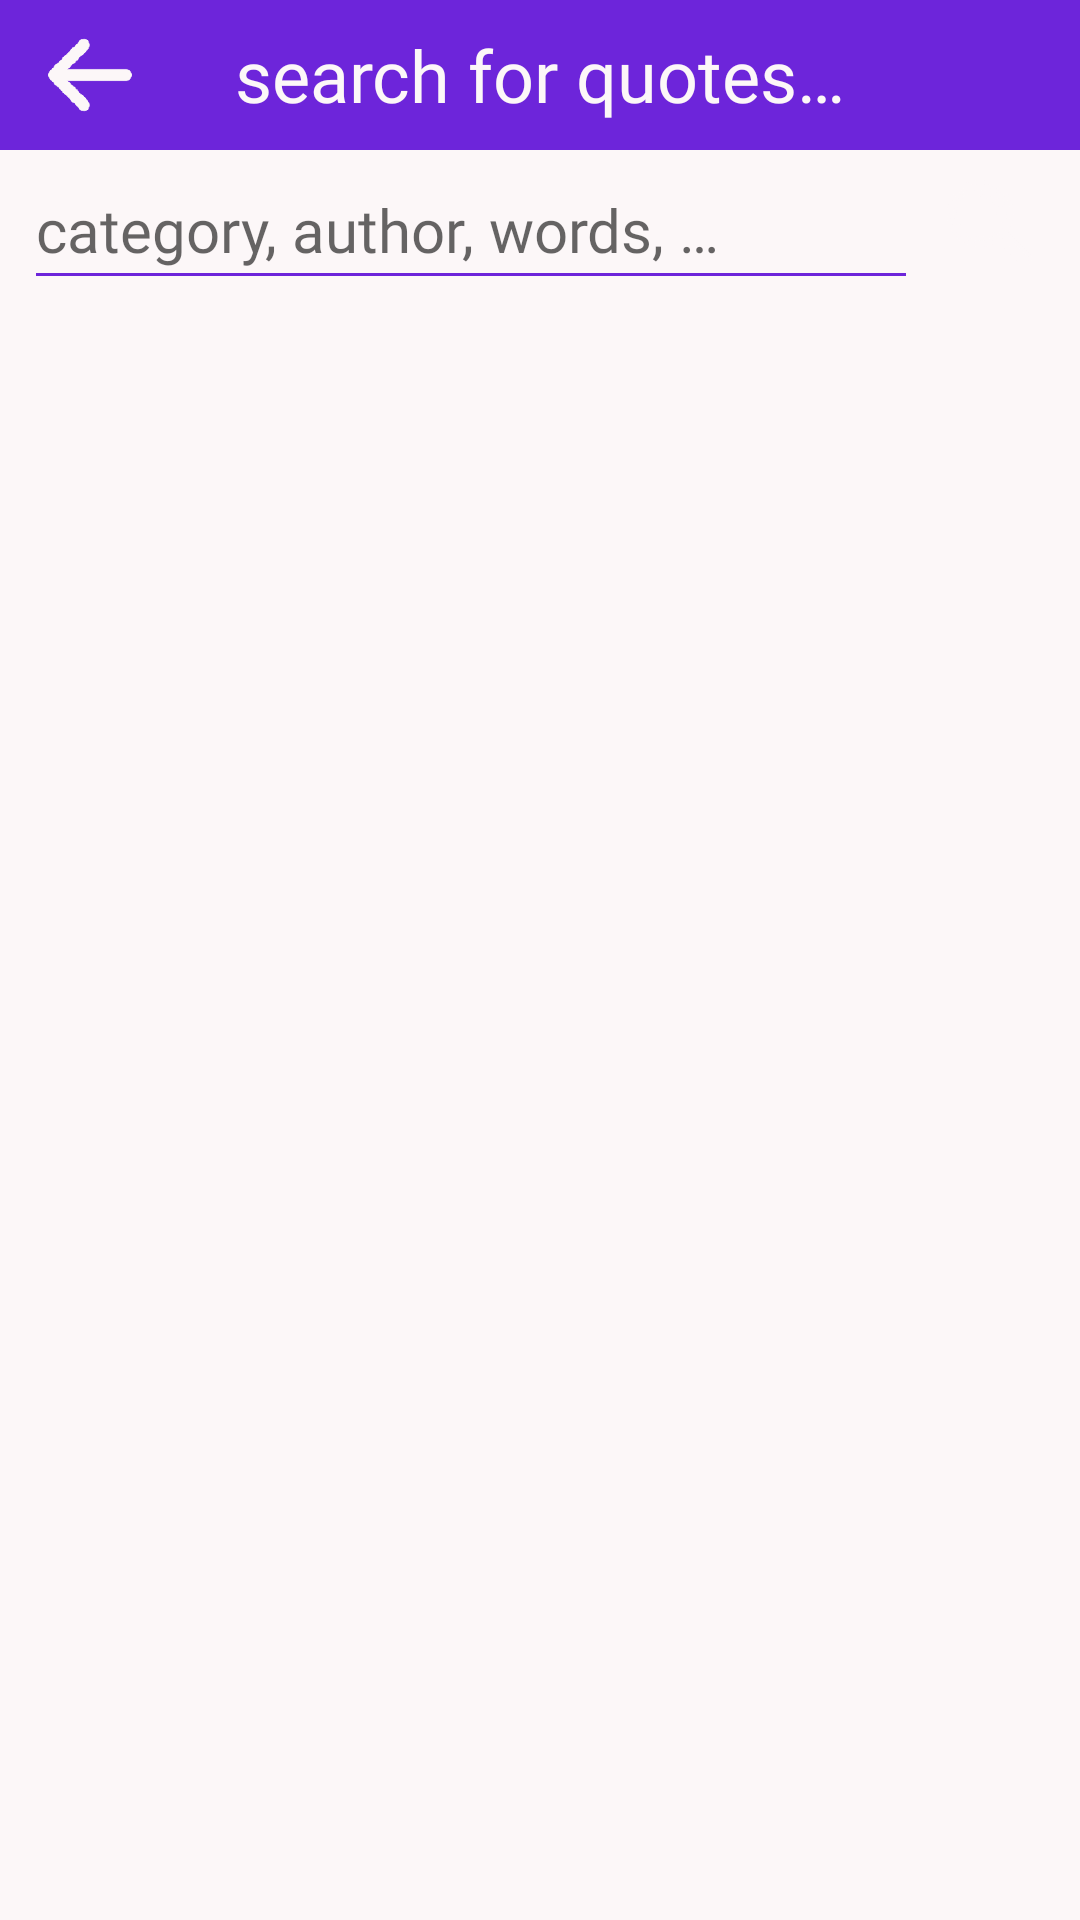

Icon click points for this 1080x1920 phone screenshot, format (x=x, y=y):
up button: (x=90, y=75)
